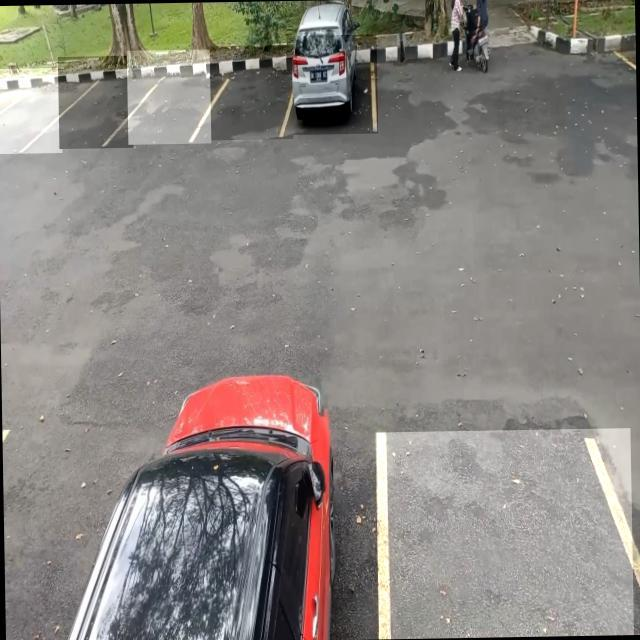empty: (376, 428, 634, 639), (208, 44, 293, 140), (126, 49, 211, 144), (58, 55, 132, 149), (0, 67, 62, 153)
occupied: (286, 34, 378, 134)
